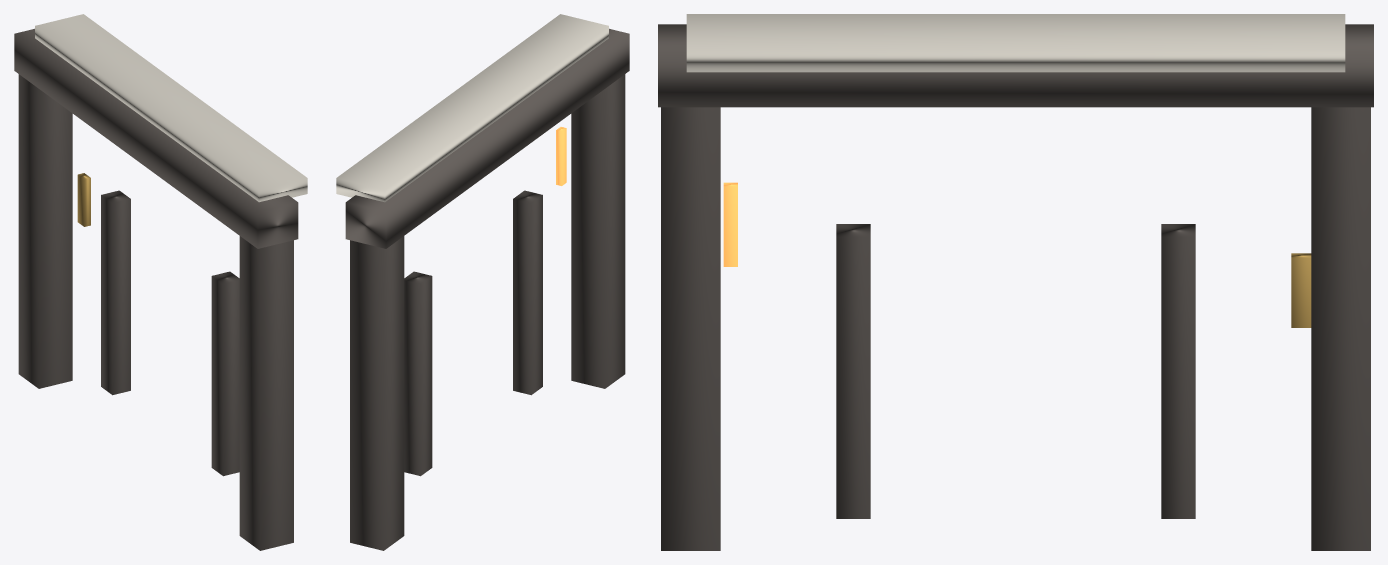
File: solar-yard-truss-frame-lod1.glb
3 renders of one model, left to right at view 1: azimuth 30°, elevation 25°; view 2: azimuth 150°, elevation 25°; view 3: azimuth 270°, elevation 25°, orthographic. The views are drawn at different scales.
Visible parts, largest first — view 1: solar-yard-truss-frame-right, solar-yard-truss-frame-left, solar-yard-truss-frame-thermal-cap, solar-yard-truss-frame-crown, solar-yard-truss-frame-diagonal-left, solar-yard-truss-frame-diagonal-right, solar-yard-truss-frame-foil-tag; view 2: solar-yard-truss-frame-left, solar-yard-truss-frame-right, solar-yard-truss-frame-thermal-cap, solar-yard-truss-frame-crown, solar-yard-truss-frame-diagonal-right, solar-yard-truss-frame-diagonal-left, solar-yard-truss-frame-status; view 3: solar-yard-truss-frame-thermal-cap, solar-yard-truss-frame-crown, solar-yard-truss-frame-left, solar-yard-truss-frame-right, solar-yard-truss-frame-diagonal-left, solar-yard-truss-frame-diagonal-right, solar-yard-truss-frame-foil-tag, solar-yard-truss-frame-status.
Part boxes in pixels (left/top/right/bottom): solar-yard-truss-frame-right: left=239, top=236, right=293, bottom=550; solar-yard-truss-frame-left: left=18, top=74, right=72, bottom=388; solar-yard-truss-frame-thermal-cap: left=35, top=14, right=307, bottom=202; solar-yard-truss-frame-crown: left=14, top=28, right=298, bottom=248; solar-yard-truss-frame-diagonal-left: left=101, top=190, right=130, bottom=395; solar-yard-truss-frame-diagonal-right: left=211, top=271, right=239, bottom=476; solar-yard-truss-frame-foil-tag: left=77, top=173, right=90, bottom=226; solar-yard-truss-frame-left: left=350, top=236, right=404, bottom=550; solar-yard-truss-frame-right: left=571, top=74, right=625, bottom=388; solar-yard-truss-frame-thermal-cap: left=336, top=14, right=608, bottom=202; solar-yard-truss-frame-crown: left=345, top=28, right=629, bottom=248; solar-yard-truss-frame-diagonal-right: left=513, top=190, right=542, bottom=395; solar-yard-truss-frame-diagonal-left: left=404, top=271, right=432, bottom=476; solar-yard-truss-frame-status: left=556, top=127, right=566, bottom=185; solar-yard-truss-frame-thermal-cap: left=686, top=14, right=1345, bottom=72; solar-yard-truss-frame-crown: left=658, top=24, right=1373, bottom=107; solar-yard-truss-frame-left: left=1311, top=107, right=1370, bottom=550; solar-yard-truss-frame-right: left=661, top=107, right=720, bottom=550; solar-yard-truss-frame-diagonal-left: left=1161, top=224, right=1195, bottom=518; solar-yard-truss-frame-diagonal-right: left=836, top=224, right=870, bottom=518; solar-yard-truss-frame-foil-tag: left=1291, top=253, right=1311, bottom=327; solar-yard-truss-frame-status: left=723, top=182, right=737, bottom=266.
Size of the model in its own units: 0.71 by 4.01 by 5.02.
